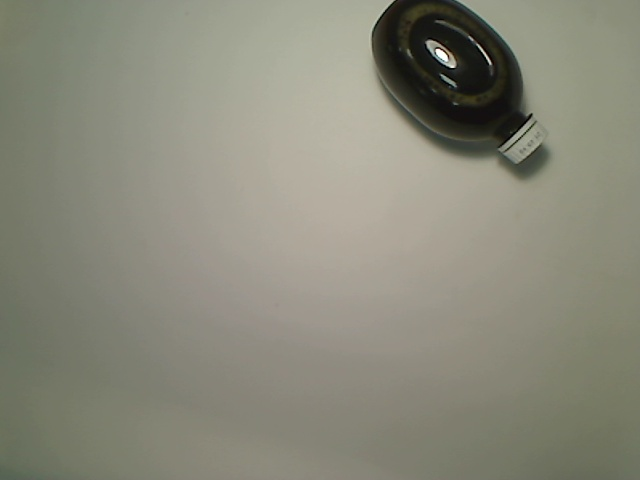plast_bottle: (368, 1, 551, 167)
